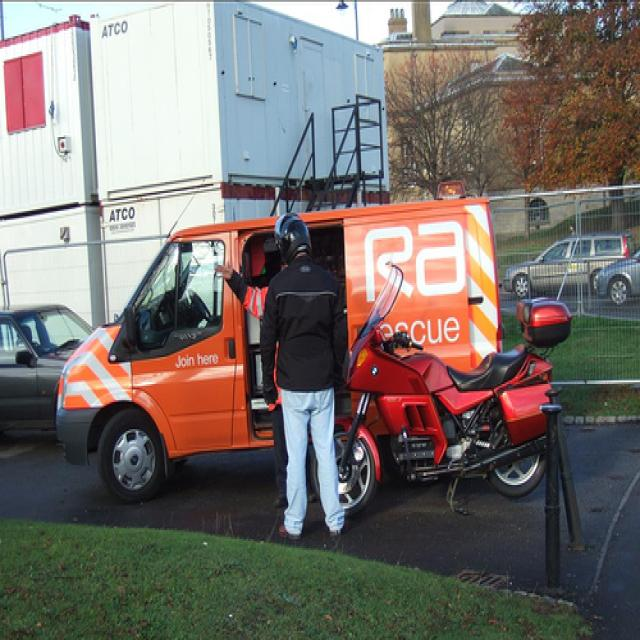motor: (332, 262, 573, 518)
